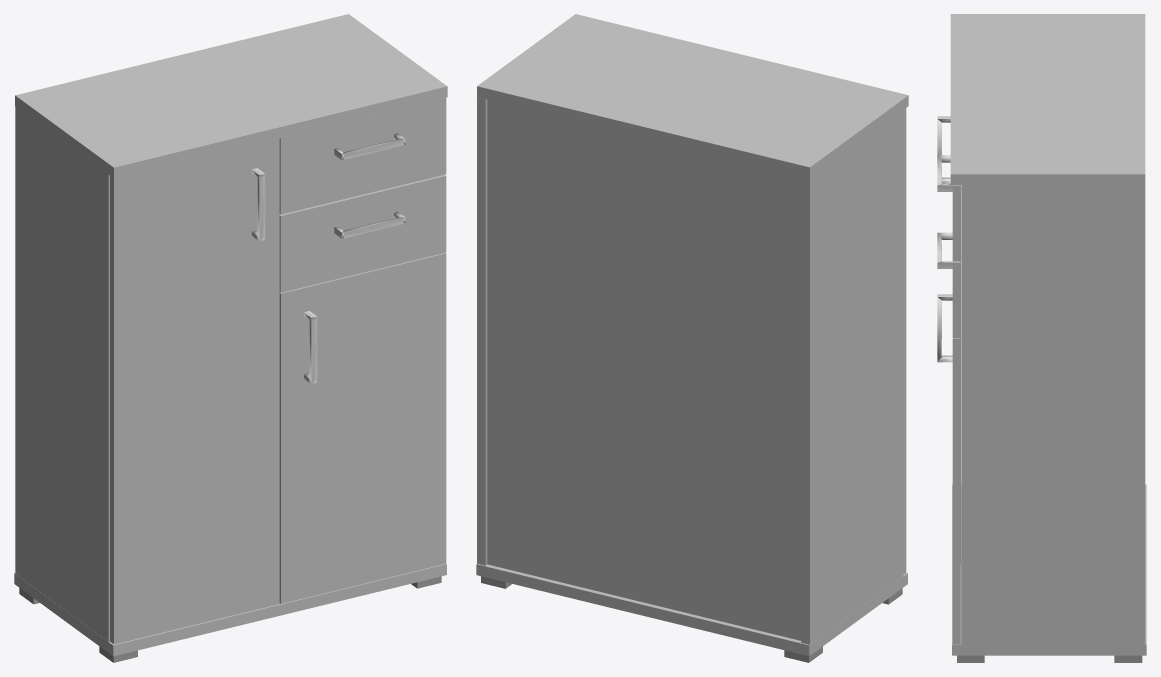
Rendered from meubleChaussures.obj.
3 views of the same model, side by side, from view 1: azimuth 30°, elevation 25°; view 2: azimuth 150°, elevation 25°; view 3: azimuth 270°, elevation 25° (orthographic).
Visible parts, largest first — view 1: Cube_4_1_8, Cube_4_7, Cube_2_2, Cube_1_1_4, Cube_3_1_6, Cube_3_5, Cube_1_1, Poignee_3_16, Poignee_2_15, Poignee_1_14, Poignee_9; view 2: Cube_7_17, Cube_2_2, Cube_1_1_4, Cube_1_1, Cube_2_1_3, Cube_4_1_8; view 3: Cube_2_1_3, Cube_1_1_4, Cube_1_1, Cube_4_7, Cube_3_1_6, Cube_3_5, Poignee_2_15, Cube_4_1_8, Poignee_9, Poignee_1_14, Poignee_3_16.
Boxes of the visible parts, x1,y1,x2,y2 form: Cube_4_1_8: [110, 138, 279, 644]; Cube_4_7: [279, 252, 446, 603]; Cube_2_2: [15, 106, 109, 641]; Cube_1_1_4: [15, 14, 447, 178]; Cube_3_1_6: [279, 174, 446, 292]; Cube_3_5: [279, 97, 446, 214]; Cube_1_1: [14, 563, 446, 656]; Poignee_3_16: [251, 168, 265, 241]; Poignee_2_15: [303, 311, 317, 383]; Poignee_1_14: [334, 133, 405, 160]; Poignee_9: [334, 211, 405, 238]; Cube_7_17: [487, 99, 801, 640]; Cube_2_2: [801, 110, 903, 644]; Cube_1_1_4: [477, 14, 908, 178]; Cube_1_1: [476, 563, 907, 656]; Cube_2_1_3: [477, 97, 487, 565]; Cube_4_1_8: [903, 108, 906, 574]; Cube_2_1_3: [961, 185, 1145, 644]; Cube_1_1_4: [950, 14, 1145, 184]; Cube_1_1: [952, 484, 1146, 655]; Cube_4_7: [952, 338, 960, 644]; Cube_3_1_6: [952, 261, 960, 338]; Cube_3_5: [952, 185, 960, 261]; Poignee_2_15: [937, 294, 952, 362]; Cube_4_1_8: [960, 185, 960, 563]; Poignee_9: [937, 232, 952, 268]; Poignee_1_14: [937, 155, 952, 191]; Poignee_3_16: [937, 116, 950, 184].
Bounding box in the file's own units: 71.7 × 102 × 39.57.
